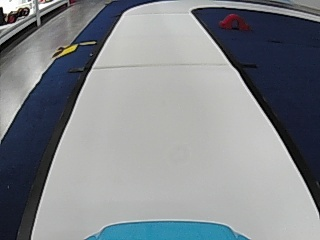bridge: (219, 12, 249, 30)
